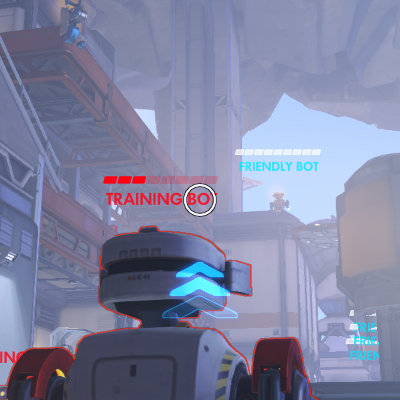hpbar: (103, 176, 218, 184)
